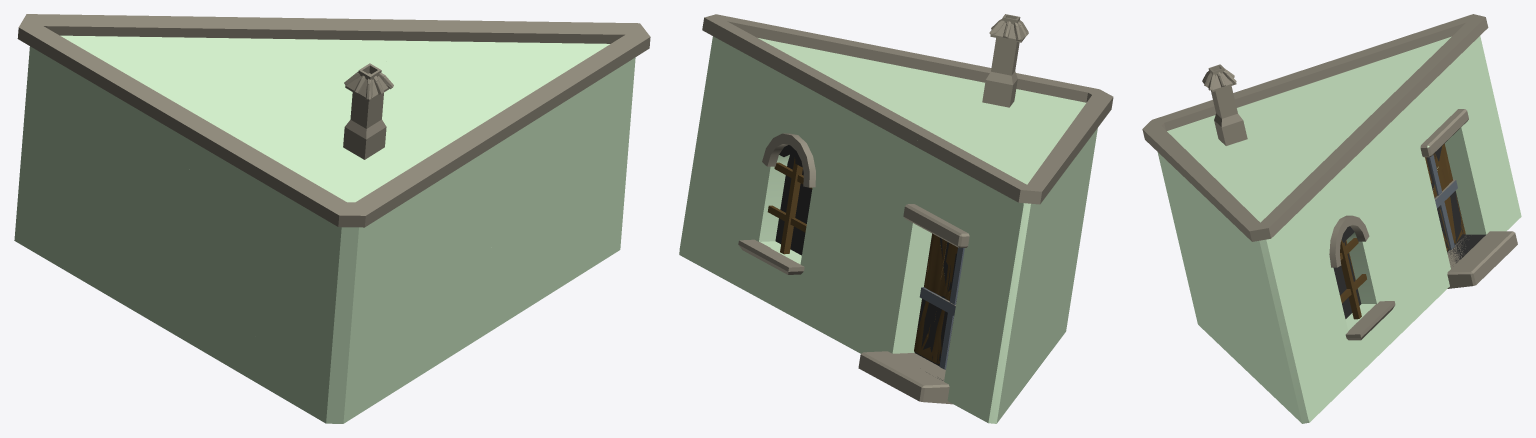
Rendered from civilian_house_40_b_root.fbx.
3 views of the same model, side by side, from view 1: azimuth 30°, elevation 25°; view 2: azimuth 150°, elevation 25°; view 3: azimuth 270°, elevation 25° (orthographic). The views are drawn at different scales.
Parts seen in each view (by area): view 1: civilian_house_40_b_sh_1, civilian_house_40_b_sh_24, civilian_house_40_b_sh_2, civilian_house_40_b_sh_14, civilian_house_40_b_sh_4, civilian_house_40_b_sh_9, civilian_house_40_b_sh_16, civilian_house_40_b_sh_17, civilian_house_40_b_sh_20, civilian_house_40_b_sh_21, civilian_house_40_b_sh_15, civilian_house_40_b_sh_19 (+5 smaller); view 2: civilian_house_40_b_sh_6, civilian_house_40_b_sh_1, civilian_house_40_b_sh_12, civilian_house_40_b_sh_16, civilian_house_40_b_sh_5, civilian_house_40_b_sh_2, civilian_house_40_b_sh_23, civilian_house_40_b_sh_14, civilian_house_40_b_sh_24, civilian_house_40_b_sh_7, civilian_house_40_b_sh_21, civilian_house_40_b_sh_17 (+10 smaller); view 3: civilian_house_40_b_sh_1, civilian_house_40_b_sh_6, civilian_house_40_b_sh_2, civilian_house_40_b_sh_12, civilian_house_40_b_sh_16, civilian_house_40_b_sh_14, civilian_house_40_b_sh_20, civilian_house_40_b_sh_5, civilian_house_40_b_sh_17, civilian_house_40_b_sh_4, civilian_house_40_b_sh_23, civilian_house_40_b_sh_21 (+9 smaller).
Boxes of the visible parts, left/top/right/bottom form: civilian_house_40_b_sh_1: left=433, top=21, right=650, bottom=247; civilian_house_40_b_sh_24: left=20, top=123, right=236, bottom=322; civilian_house_40_b_sh_2: left=332, top=47, right=533, bottom=256; civilian_house_40_b_sh_14: left=184, top=17, right=390, bottom=235; civilian_house_40_b_sh_4: left=301, top=244, right=490, bottom=423; civilian_house_40_b_sh_9: left=238, top=204, right=406, bottom=348; civilian_house_40_b_sh_16: left=17, top=14, right=200, bottom=137; civilian_house_40_b_sh_17: left=82, top=16, right=251, bottom=161; civilian_house_40_b_sh_20: left=468, top=181, right=625, bottom=345; civilian_house_40_b_sh_21: left=187, top=98, right=365, bottom=221; civilian_house_40_b_sh_15: left=153, top=236, right=297, bottom=350; civilian_house_40_b_sh_19: left=202, top=325, right=340, bottom=423; civilian_house_40_b_sh_6: left=787, top=80, right=882, bottom=327; civilian_house_40_b_sh_1: left=690, top=14, right=872, bottom=181; civilian_house_40_b_sh_12: left=859, top=289, right=1012, bottom=411; civilian_house_40_b_sh_16: left=920, top=140, right=1056, bottom=299; civilian_house_40_b_sh_5: left=874, top=119, right=946, bottom=296; civilian_house_40_b_sh_2: left=838, top=45, right=1030, bottom=110; civilian_house_40_b_sh_23: left=695, top=170, right=793, bottom=313; civilian_house_40_b_sh_14: left=848, top=90, right=1078, bottom=217; civilian_house_40_b_sh_24: left=944, top=190, right=1066, bottom=402; civilian_house_40_b_sh_7: left=748, top=151, right=809, bottom=322; civilian_house_40_b_sh_21: left=992, top=52, right=1106, bottom=196; civilian_house_40_b_sh_17: left=913, top=126, right=1079, bottom=214; civilian_house_40_b_sh_1: left=1206, top=162, right=1345, bottom=360; civilian_house_40_b_sh_6: left=1325, top=132, right=1428, bottom=339; civilian_house_40_b_sh_2: left=1166, top=104, right=1328, bottom=287; civilian_house_40_b_sh_12: left=1429, top=138, right=1518, bottom=302; civilian_house_40_b_sh_16: left=1406, top=14, right=1497, bottom=144; civilian_house_40_b_sh_14: left=1260, top=72, right=1396, bottom=150; civilian_house_40_b_sh_20: left=1232, top=295, right=1349, bottom=423; civilian_house_40_b_sh_5: left=1384, top=89, right=1459, bottom=237; civilian_house_40_b_sh_17: left=1304, top=35, right=1423, bottom=99; civilian_house_40_b_sh_4: left=1180, top=221, right=1244, bottom=368; civilian_house_40_b_sh_23: left=1297, top=293, right=1383, bottom=383; civilian_house_40_b_sh_21: left=1184, top=70, right=1304, bottom=136.
Size of the model in its own units: 3891 by 2531 by 3185.
